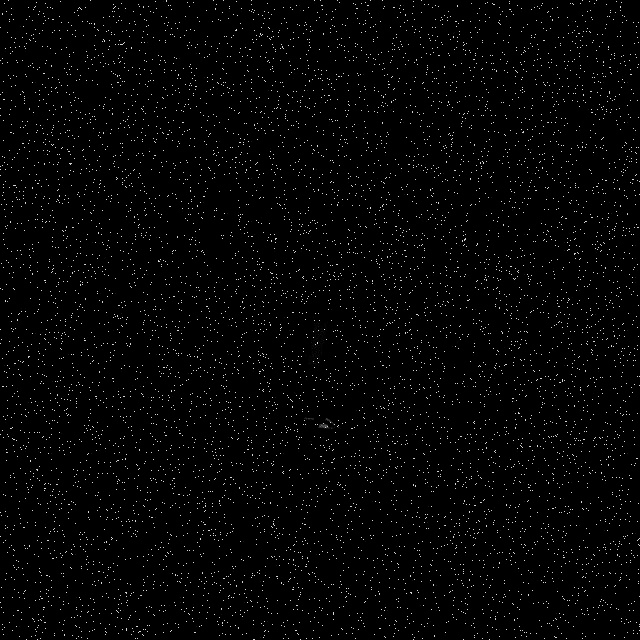satellite: (281, 318, 378, 436)
